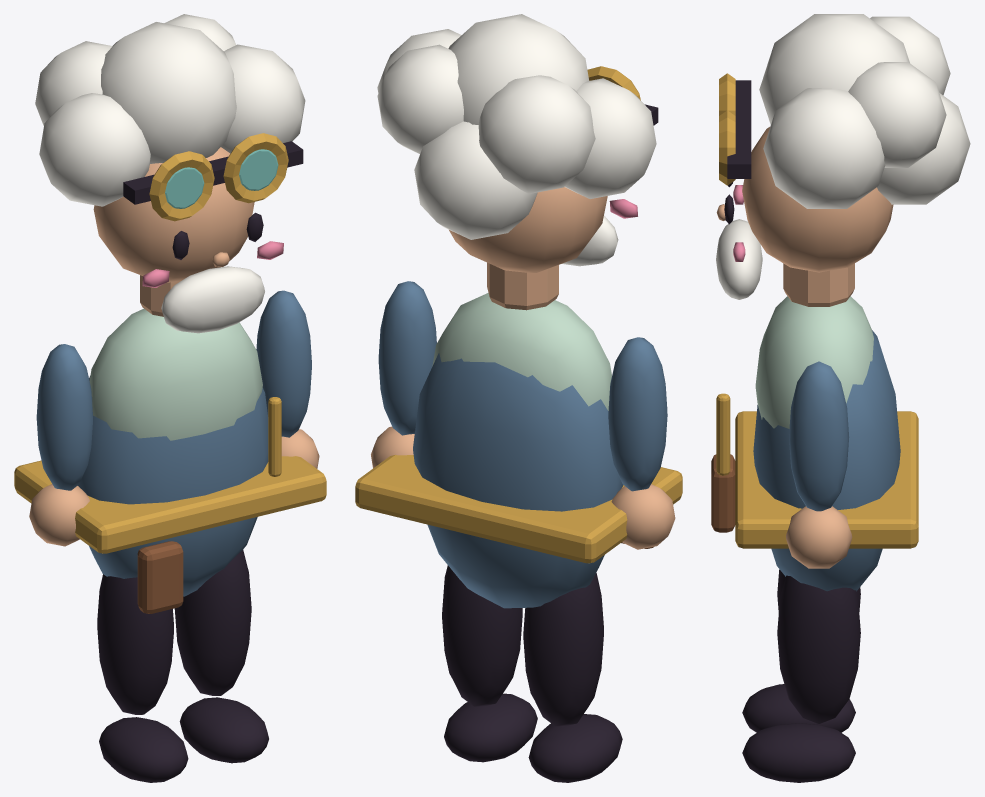
The model's file is orin.glb.
3 views of the same model, side by side, from view 1: azimuth 30°, elevation 25°; view 2: azimuth 150°, elevation 25°; view 3: azimuth 270°, elevation 25° (orthographic). The views are drawn at different scales.
Visible parts, largest first — view 1: head, body, legL, legR, armL, armR; view 2: body, head, legL, legR, armL, armR; view 3: head, body, legR, armR, legL.
Boxes of the visible parts, left/top/right/bottom form: head: left=35, top=14, right=305, bottom=333; body: left=14, top=275, right=326, bottom=613; legL: left=97, top=574, right=188, bottom=782; legR: left=174, top=550, right=268, bottom=763; armL: left=29, top=344, right=92, bottom=546; armR: left=256, top=290, right=319, bottom=468; body: left=355, top=262, right=682, bottom=608; head: left=377, top=14, right=658, bottom=272; legL: left=523, top=573, right=622, bottom=782; legR: left=442, top=565, right=537, bottom=762; armL: left=608, top=337, right=675, bottom=549; armR: left=371, top=281, right=436, bottom=468; head: left=716, top=14, right=970, bottom=299; body: left=711, top=263, right=918, bottom=591; legR: left=742, top=575, right=860, bottom=782; armR: left=786, top=361, right=852, bottom=568; legL: left=742, top=569, right=860, bottom=732.
Bounding box in the file's own units: 0.8816 × 2.17 × 0.689.
